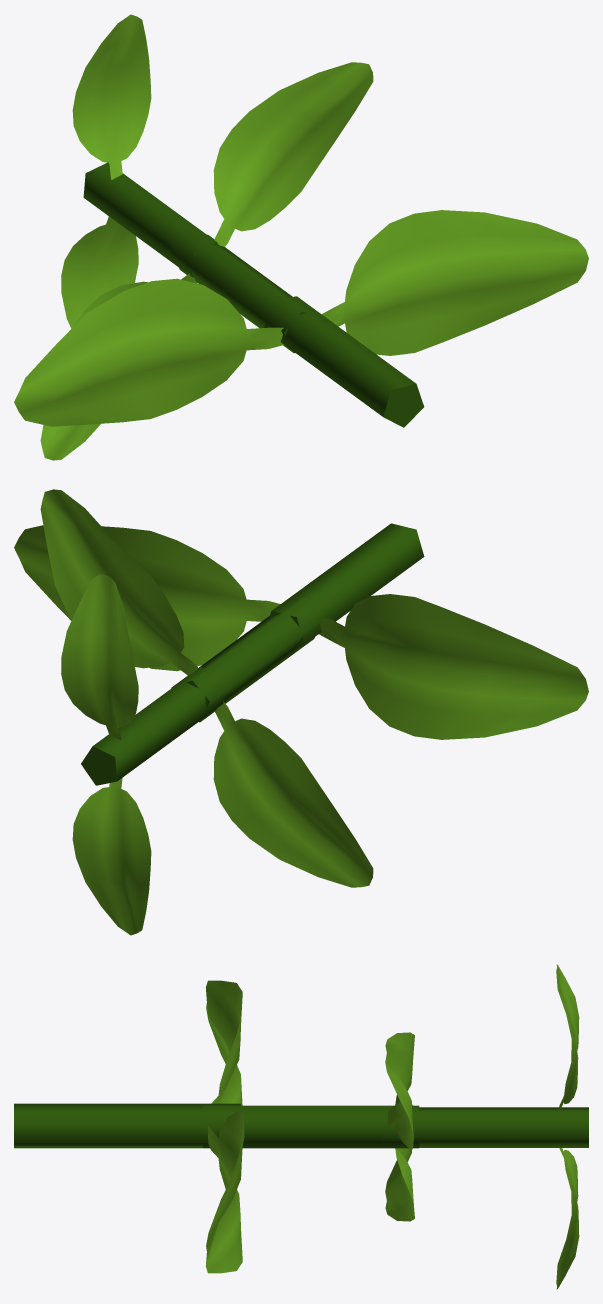
The picture shows the model from 3 angles, top to bottom: view 1: azimuth 30°, elevation 25°; view 2: azimuth 150°, elevation 25°; view 3: azimuth 270°, elevation 25°; orthographic projection. The views are drawn at different scales.
Visible parts, largest first — view 1: Root; view 2: Root; view 3: Root.
Part boxes in pixels (left/top/right/bottom): Root: left=14, top=14, right=588, bottom=460; Root: left=14, top=489, right=588, bottom=935; Root: left=14, top=964, right=588, bottom=1289.
Size of the model in its own units: 733 by 433 by 671.
